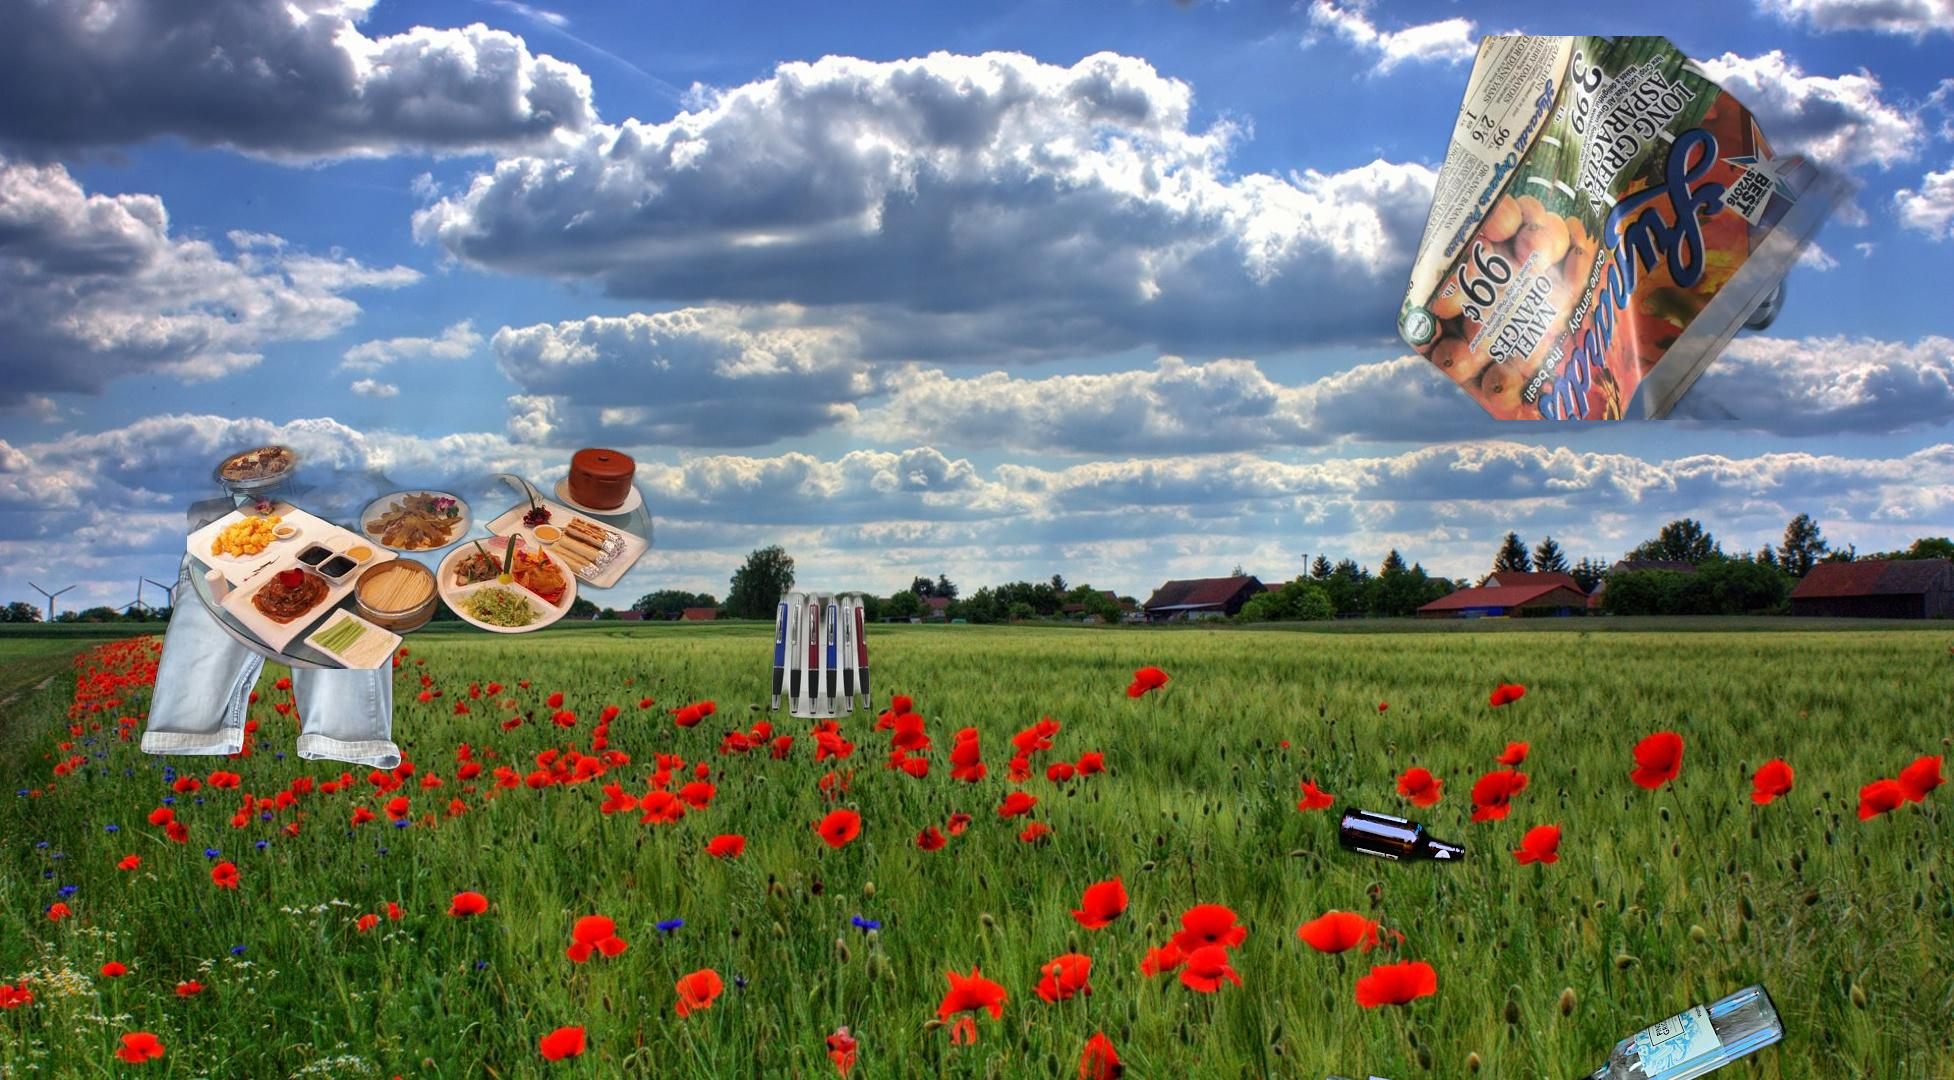biological: (187, 375, 657, 669)
clothes: (136, 513, 405, 773)
glass: (1315, 802, 1479, 1080), (1541, 976, 1792, 1080)
paper: (1390, 36, 1894, 420)
penholder: (763, 583, 896, 724)
trashbox-cardboard: (1946, 713, 1954, 1080)
